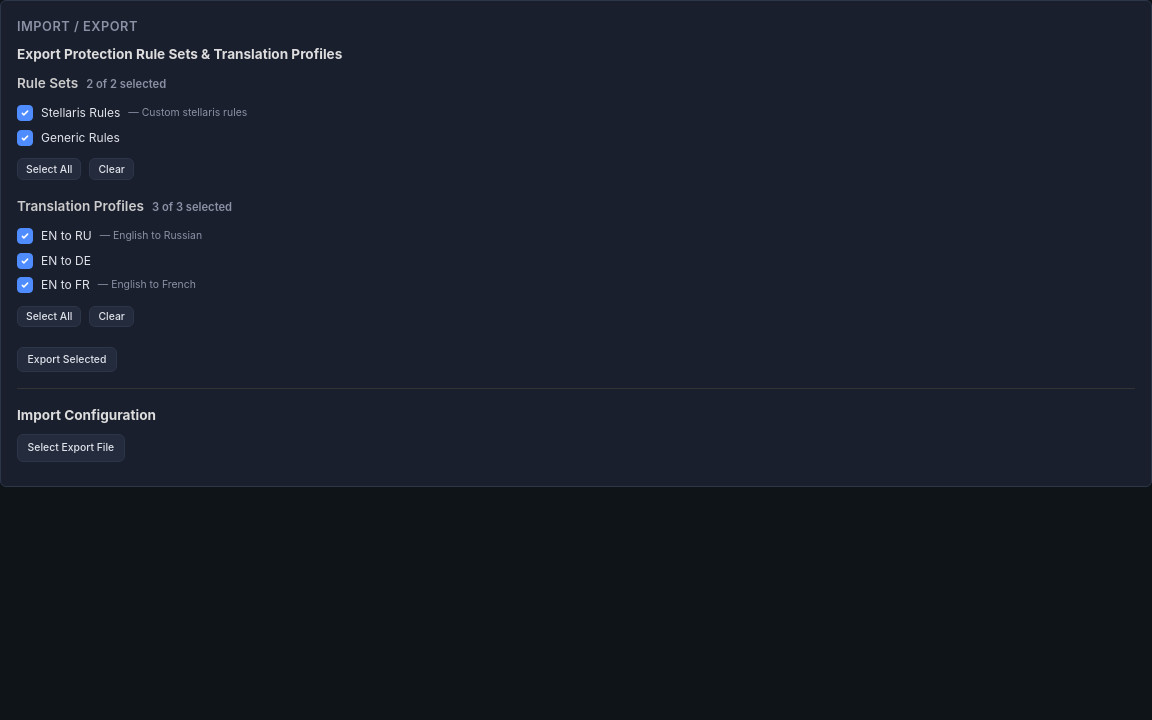
Test: ImportExportSection - Export › shows warning on empty selection export
Note: Click both Clear buttons to deselect all
Click the button "Clear" below "Generic Rules" at (112, 169), box [90, 158, 134, 180]
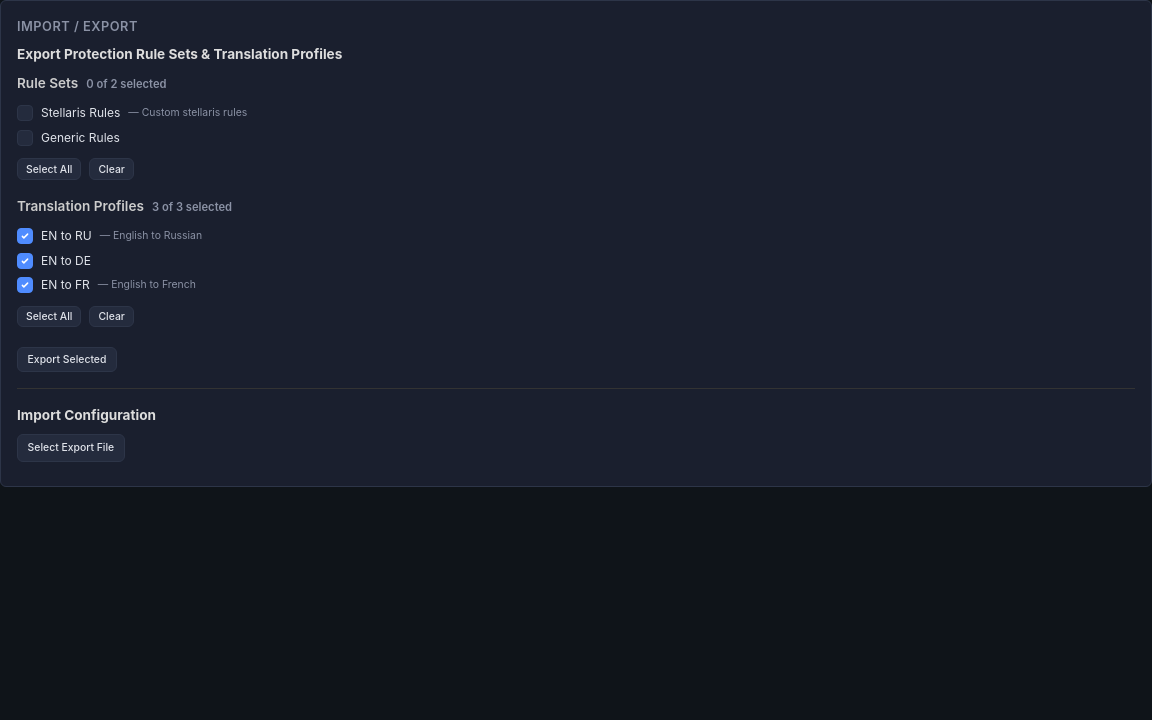
Click the button "Clear" below "EN to FR" at (112, 316), box [90, 306, 134, 327]
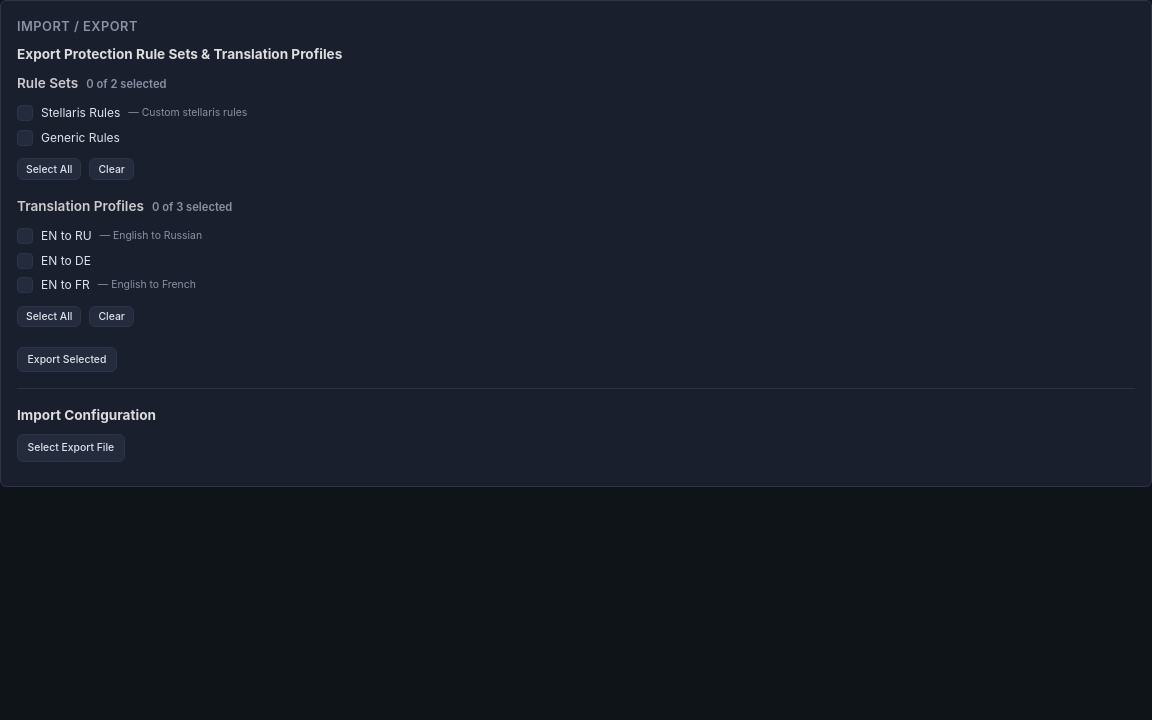
Click the button "Export Selected" at (67, 360), box [17, 347, 117, 372]
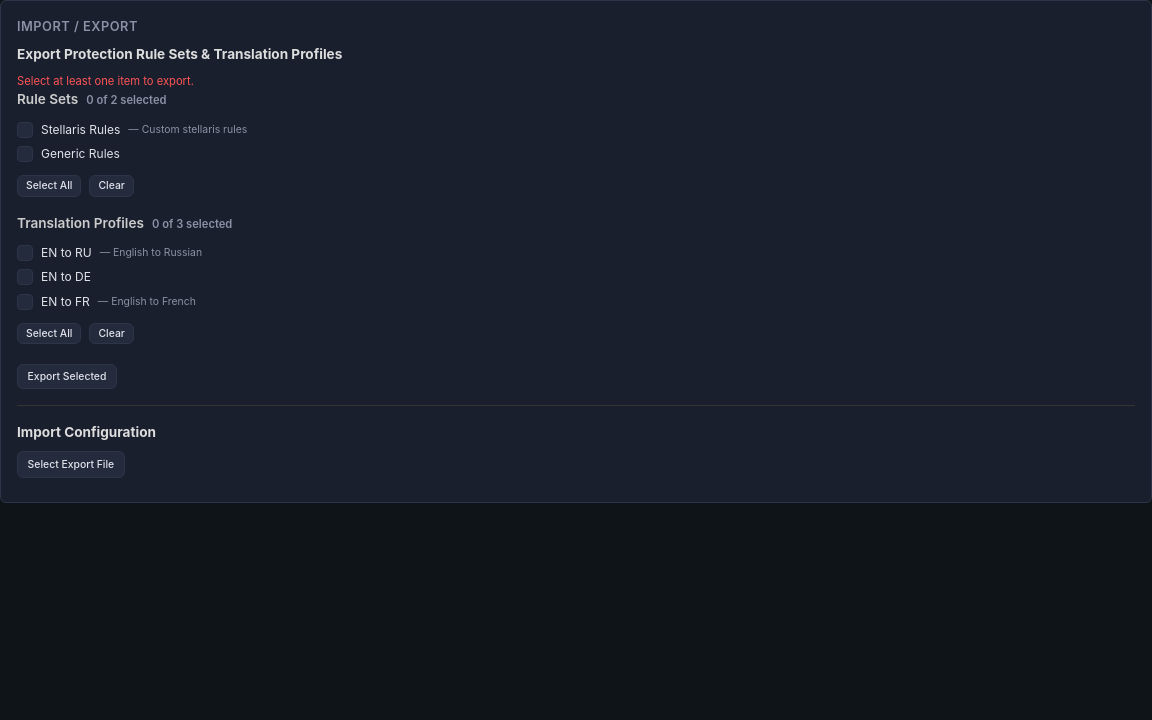
Now the text "Select at least one item to export." is shown, box [17, 74, 194, 88]
